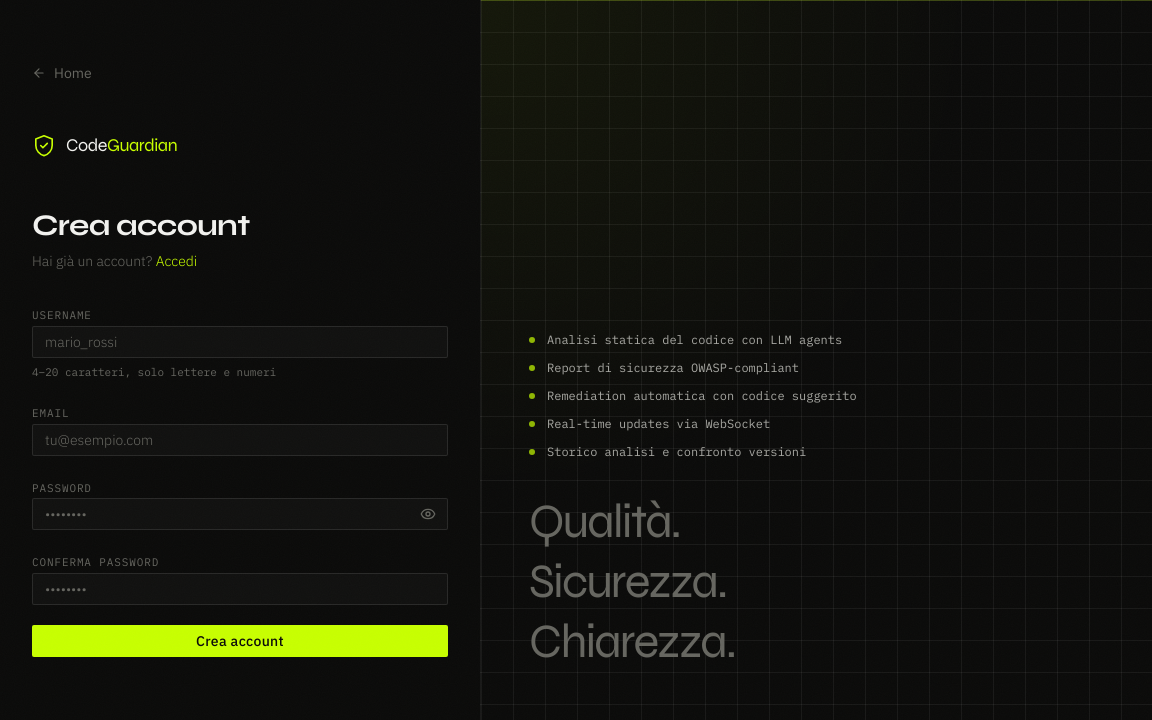
Test: RegisterPage › shows error for username shorter than 4 characters
The width and height of the screenshot is (1152, 720).
Type "ab" into the field with placeholder "mario_rossi".
click(240, 342); type("ab")  # box top-left (32, 326), bottom-right (448, 358)
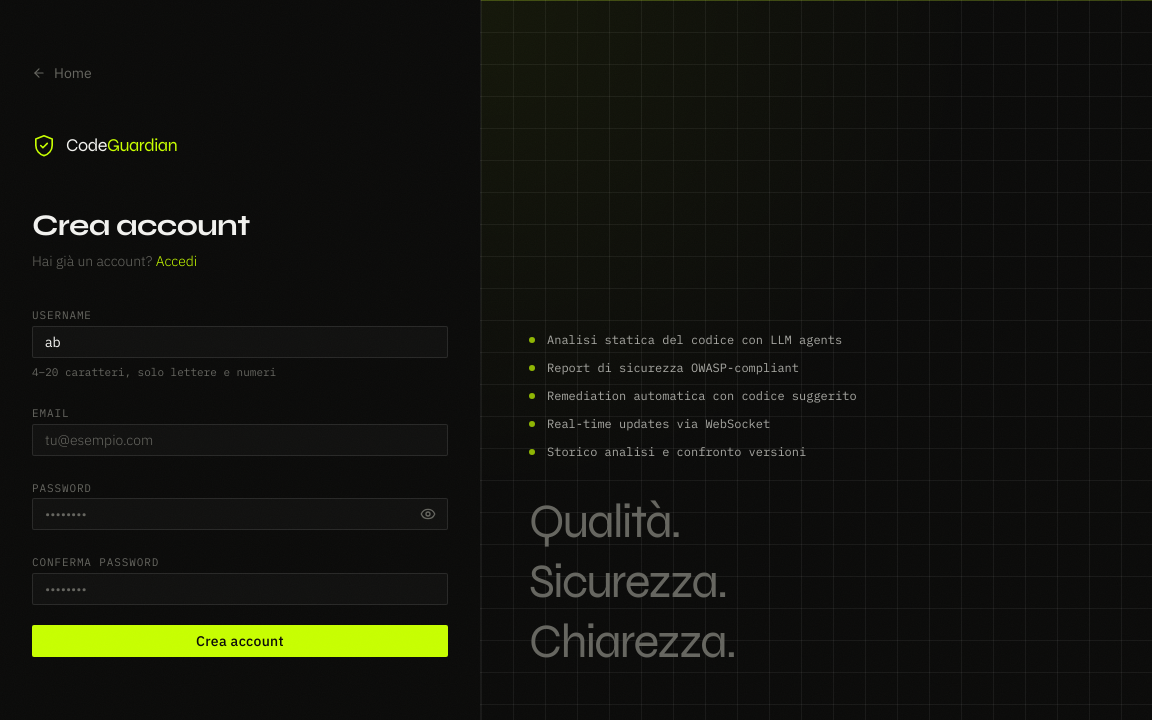
Click the button "Crea account".
click(240, 641)  # box top-left (32, 625), bottom-right (448, 657)
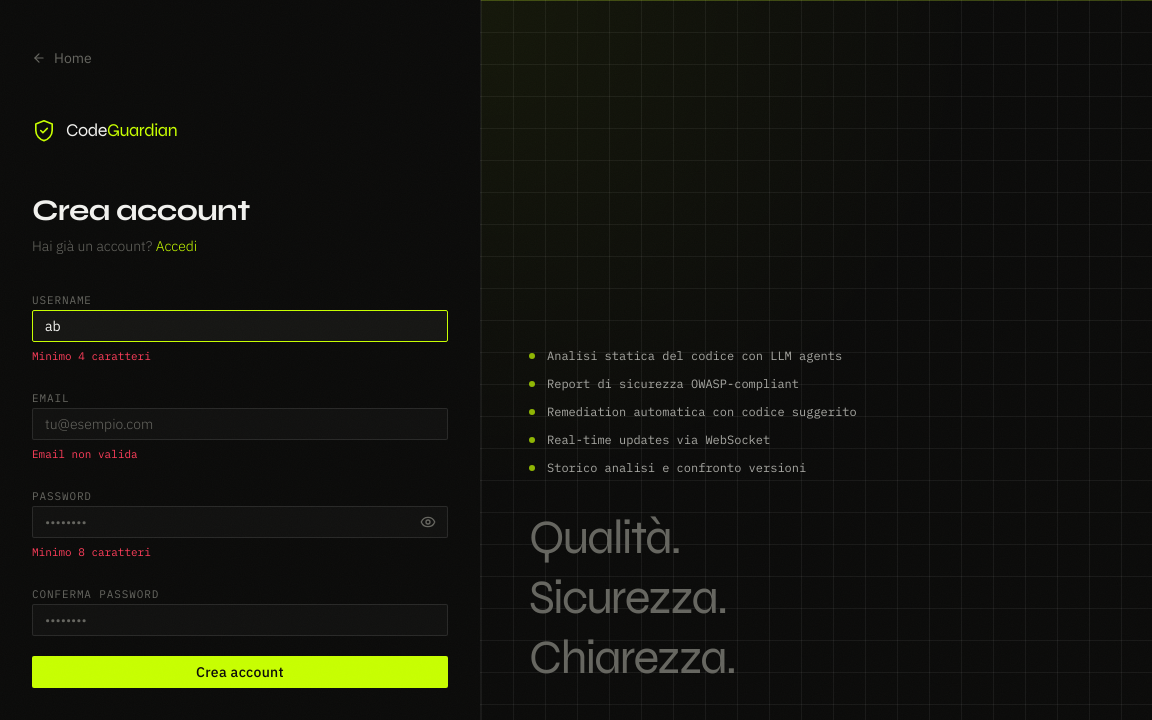
Check: the text "Minimo 4 caratteri" is shown, box top-left (32, 349), bottom-right (151, 363)
